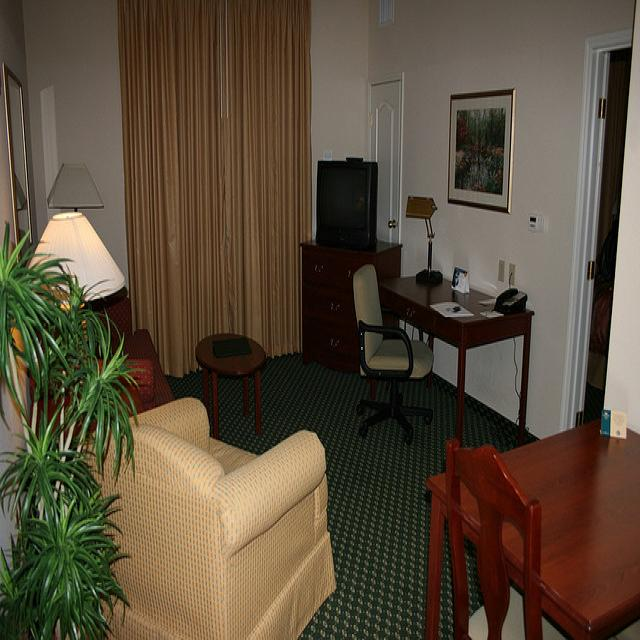chair: (80, 392, 338, 633), (445, 442, 541, 634), (354, 264, 432, 380), (94, 298, 175, 405)
dining table: (424, 420, 640, 633), (374, 265, 534, 439)
